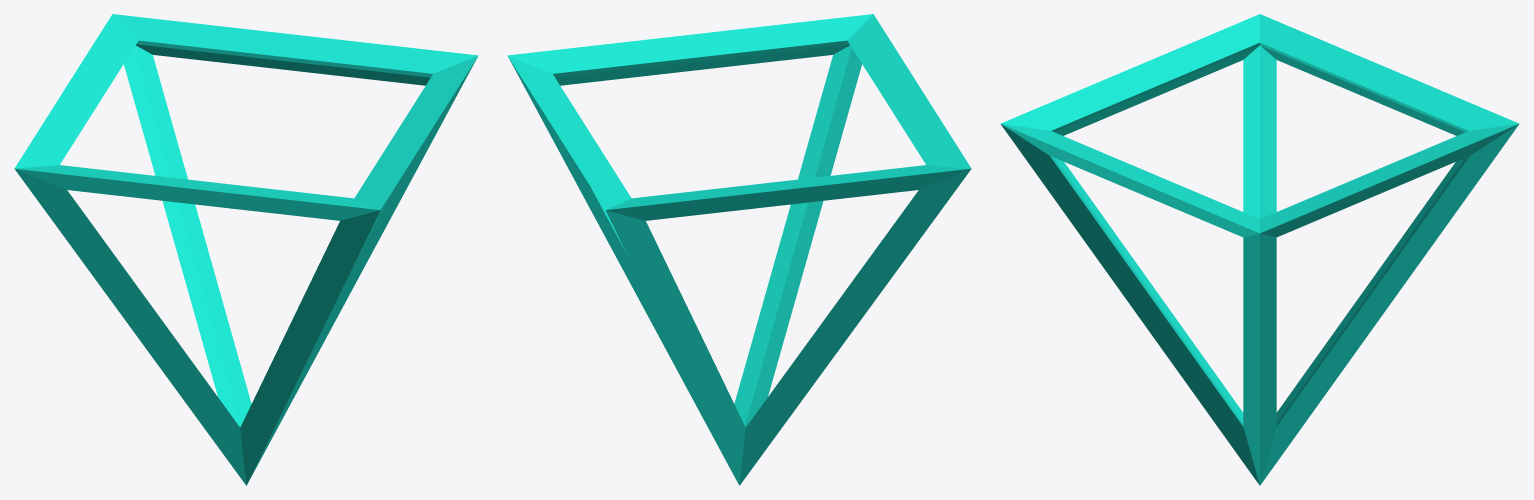
The model's file is interaction_arrow_v3.glb.
The picture shows the model from 3 angles, left to right: view 1: azimuth 30°, elevation 25°; view 2: azimuth 150°, elevation 25°; view 3: azimuth 270°, elevation 25°; orthographic projection. The views are drawn at different scales.
Visible parts, largest first — view 1: Cone; view 2: Cone; view 3: Cone.
Boxes of the visible parts, x1=… form: Cone: x1=14, y1=14, x2=478, y2=485; Cone: x1=507, y1=14, x2=971, y2=485; Cone: x1=1000, y1=14, x2=1519, y2=485.
Bounding box in the file's own units: 0.3298 × 0.2538 × 0.3298.
